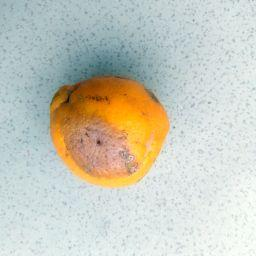Unripe: (49, 77, 169, 185)
